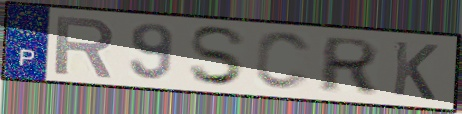9: (125, 21, 176, 82)
C: (251, 30, 314, 93)
K: (390, 38, 441, 103)
R: (51, 13, 118, 80), (315, 35, 383, 95)
S: (187, 25, 250, 88)
